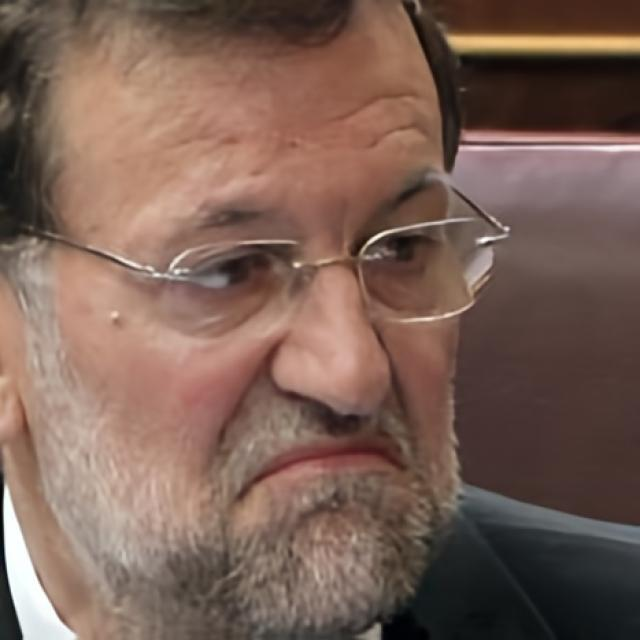disgust: (21, 0, 464, 640)
